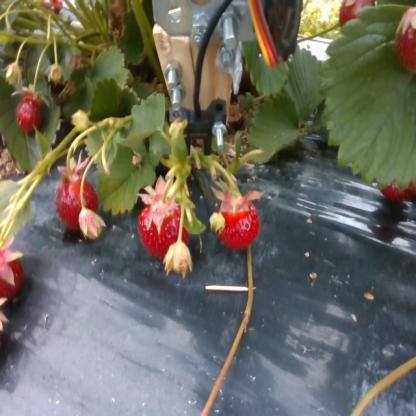ripe: (136, 196, 198, 262), (58, 174, 101, 238), (216, 198, 258, 248), (381, 147, 416, 199), (331, 0, 384, 32), (393, 13, 416, 72), (0, 257, 25, 299), (17, 98, 46, 133)
